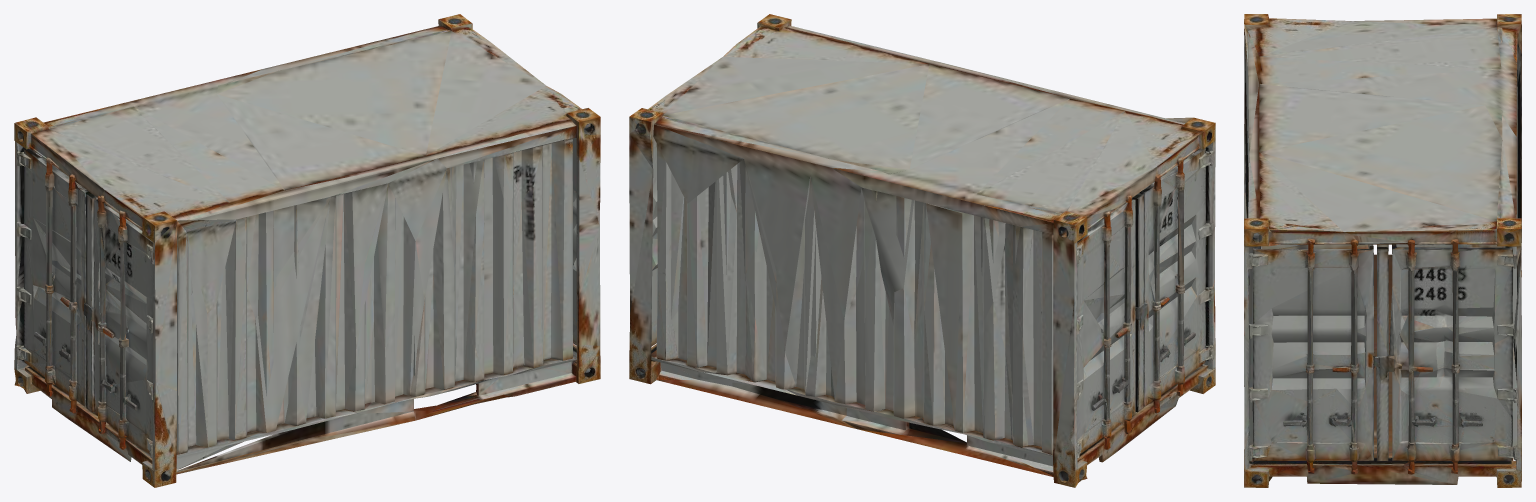
The model's file is container.glb.
3 views of the same model, side by side, from view 1: azimuth 30°, elevation 25°; view 2: azimuth 150°, elevation 25°; view 3: azimuth 270°, elevation 25° (orthographic).
Parts seen in each view (by area): view 1: Mesh_0; view 2: Mesh_0; view 3: Mesh_0.
Part boxes in pixels (bbox=[...]): Mesh_0: bbox=[14, 14, 600, 487]; Mesh_0: bbox=[629, 14, 1215, 487]; Mesh_0: bbox=[1244, 14, 1521, 487].
Size of the model in its own units: 1.9 by 1.06 by 1.03.
1 material, 1 textured.
